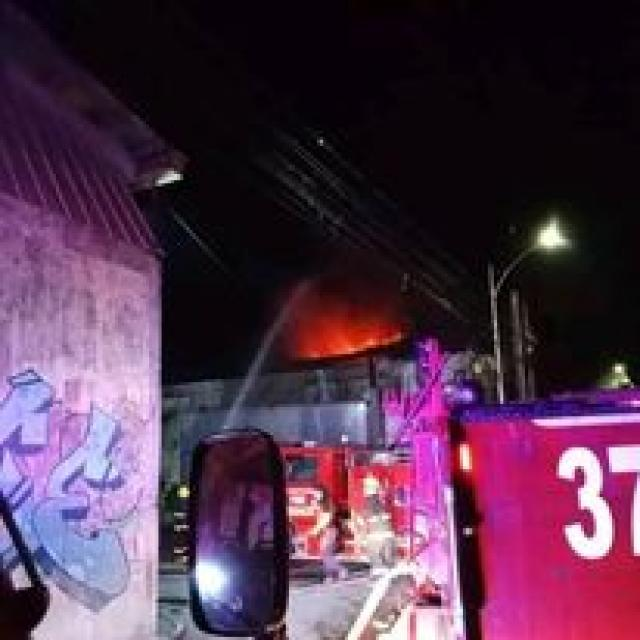Fire: (272, 297, 414, 348)
